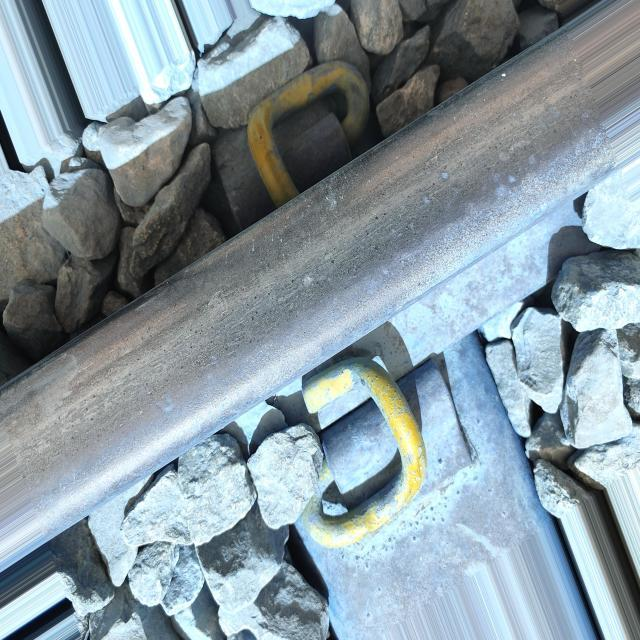Good Fasteners: (288, 343, 482, 566), (204, 61, 370, 237)
